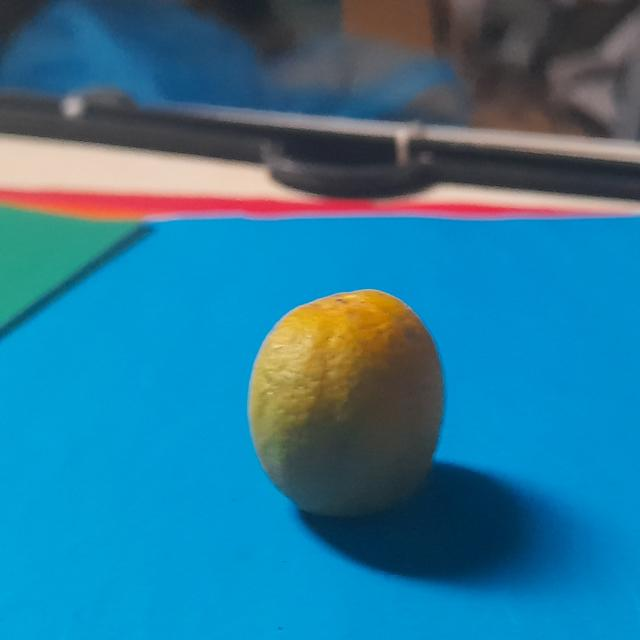greening: (237, 271, 458, 544)
